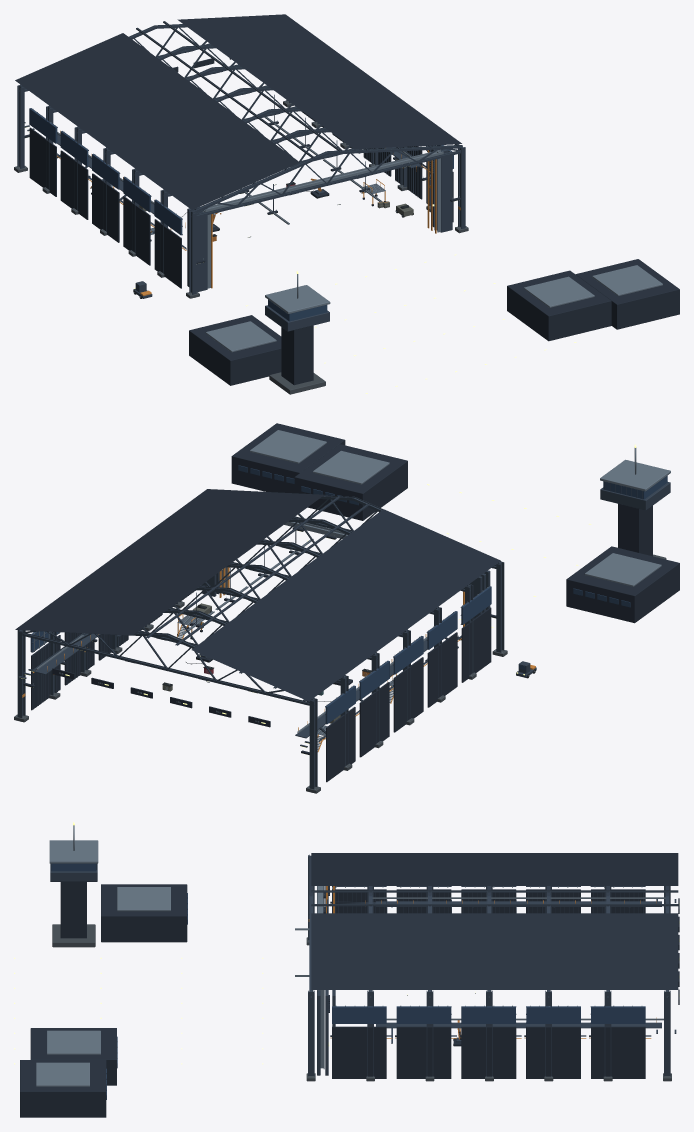
The model's file is hangar-dusk.glb.
The picture shows the model from 3 angles, top to bottom: view 1: azimuth 30°, elevation 25°; view 2: azimuth 150°, elevation 25°; view 3: azimuth 270°, elevation 25°; orthographic projection. The views are drawn at different scales.
Visible parts, largest first — view 1: Foundry frame mesh, Runway annex mesh, Work stations mesh; view 2: Foundry frame mesh, Runway annex mesh, Work stations mesh; view 3: Foundry frame mesh, Runway annex mesh.
Part boxes in pixels (x1,y1,x2,y2): Foundry frame mesh: (14,14,468,298); Runway annex mesh: (133,254,679,394); Work stations mesh: (90,178,413,241); Foundry frame mesh: (14,489,507,793); Runway annex mesh: (231,423,679,678); Work stations mesh: (162,603,396,751); Foundry frame mesh: (295,853,679,1081); Runway annex mesh: (14,822,263,1117).
Size of the model in its own units: 91 by 23.69 by 123.
